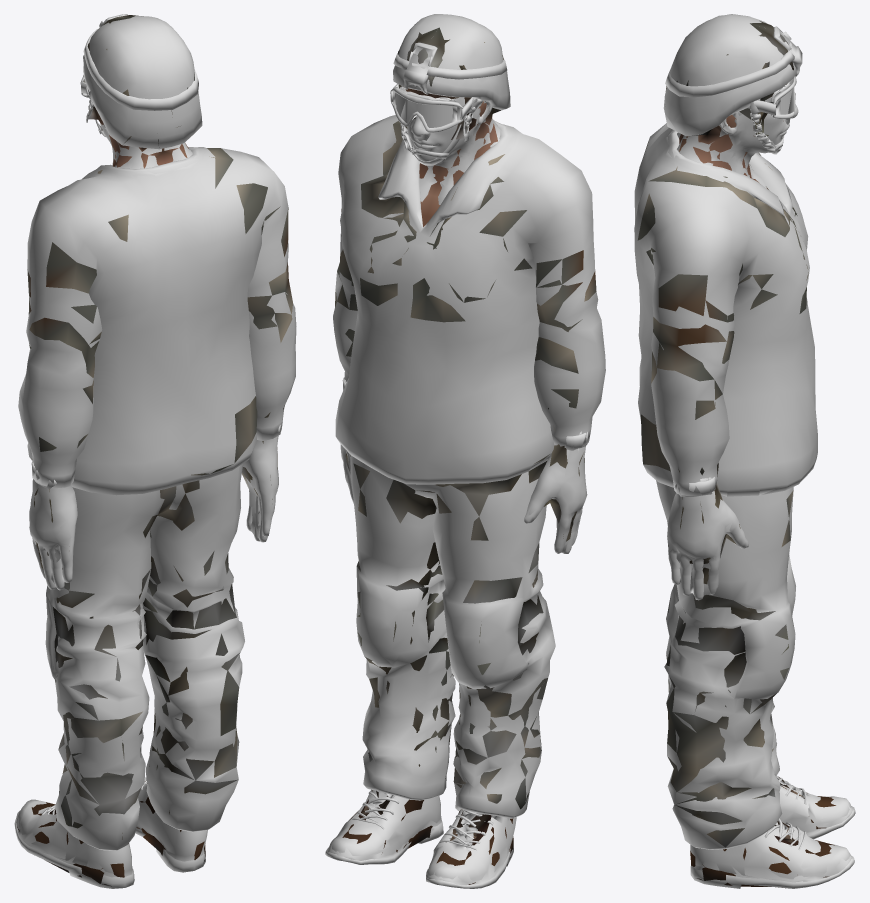
The model's file is acu.glb.
The picture shows the model from 3 angles, left to right: view 1: azimuth 30°, elevation 25°; view 2: azimuth 150°, elevation 25°; view 3: azimuth 270°, elevation 25°; orthographic projection.
Visible parts, largest first — view 1: hi_gear, min_all, lo_gear, hi_shoes, lo_kong; view 2: hi_gear, min_all, lo_gear, hi_shoes, hi_kong, lo_kong; view 3: hi_gear, min_all, hi_shoes, lo_gear, hi_kong, lo_kong.
Part boxes in pixels (x1,y1,x2,y2): hi_gear: [18, 14, 296, 850]; min_all: [17, 15, 292, 886]; lo_gear: [16, 38, 277, 877]; hi_shoes: [14, 777, 207, 888]; lo_kong: [101, 125, 192, 168]; hi_gear: [333, 14, 605, 818]; min_all: [335, 27, 596, 884]; lo_gear: [327, 30, 596, 885]; hi_shoes: [325, 789, 516, 888]; hi_kong: [407, 97, 500, 204]; lo_kong: [410, 97, 499, 186]; hi_gear: [634, 14, 817, 849]; min_all: [637, 21, 835, 888]; hi_shoes: [690, 775, 855, 888]; lo_gear: [652, 35, 854, 882]; hi_kong: [678, 97, 798, 188]; lo_kong: [677, 100, 790, 177].
Bounding box in the file's own units: 0.5996 × 1.8 × 0.4311.
